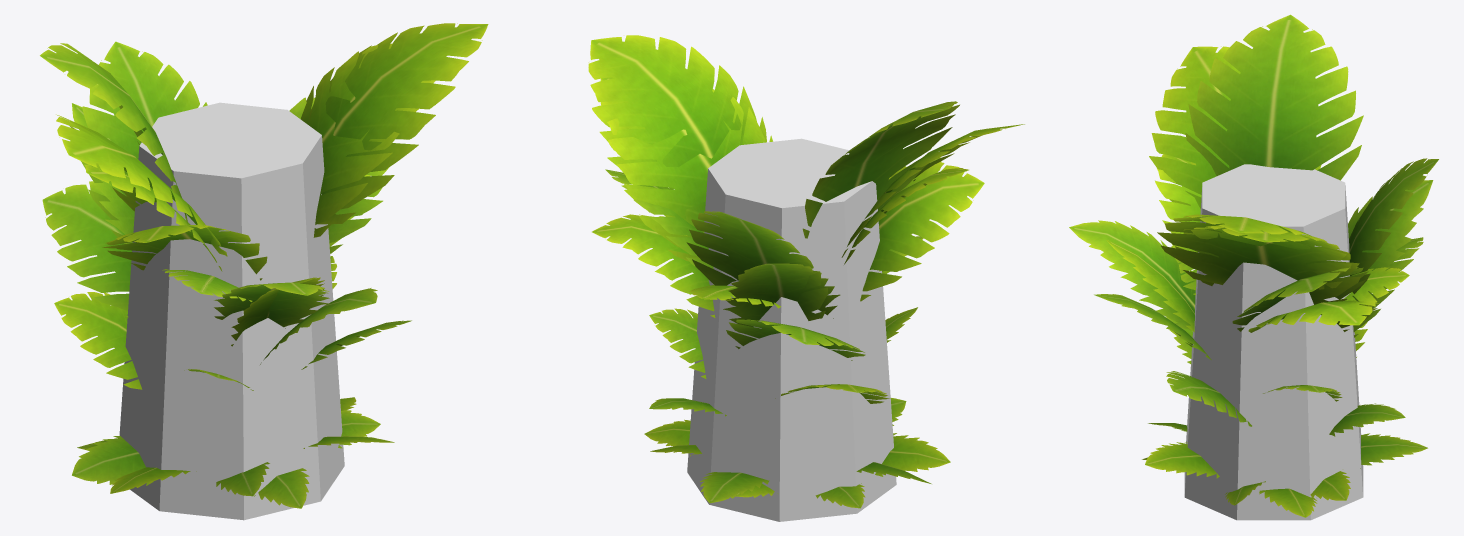
The model's file is IO_Bush_Tropical_C.glb.
3 views of the same model, side by side, from view 1: azimuth 30°, elevation 25°; view 2: azimuth 150°, elevation 25°; view 3: azimuth 270°, elevation 25° (orthographic). The views are drawn at different scales.
Visible parts, largest first — view 1: IO_Bush_Tropical_C_COL, IO_Bush_Tropical_C_LOD0; view 2: IO_Bush_Tropical_C_LOD0, IO_Bush_Tropical_C_COL; view 3: IO_Bush_Tropical_C_LOD0, IO_Bush_Tropical_C_COL.
Part boxes in pixels (x1=…): IO_Bush_Tropical_C_COL: x1=119, y1=102, x2=344, y2=520; IO_Bush_Tropical_C_LOD0: x1=40, y1=23, x2=488, y2=508; IO_Bush_Tropical_C_LOD0: x1=588, y1=35, x2=1024, y2=508; IO_Bush_Tropical_C_COL: x1=687, y1=138, x2=896, y2=521; IO_Bush_Tropical_C_LOD0: x1=1069, y1=14, x2=1438, y2=517; IO_Bush_Tropical_C_COL: x1=1184, y1=164, x2=1363, y2=520.
Size of what is drawn, in the model's own units: 1.5 by 1.41 by 1.22.
Materials: 1 (1 with a texture image).
